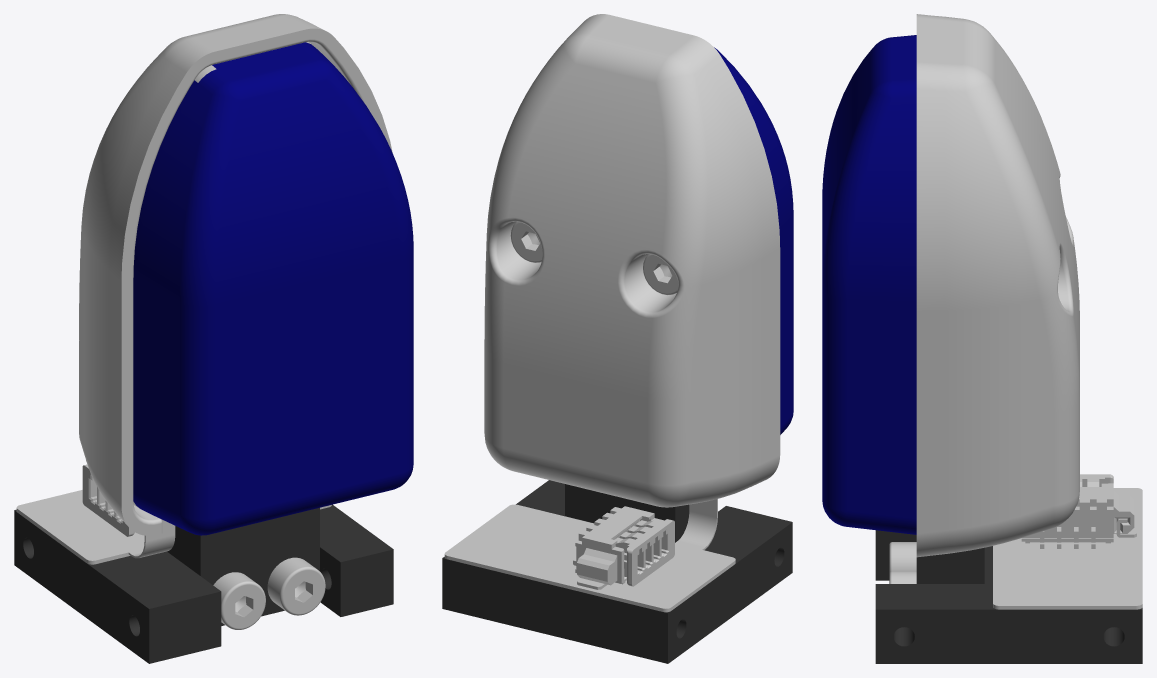
Rendered from sensing_tip.dae.
3 renders of one model, left to right at view 1: azimuth 30°, elevation 25°; view 2: azimuth 150°, elevation 25°; view 3: azimuth 270°, elevation 25°, orthographic. The views are drawn at different scales.
Parts seen in each view (by area): view 1: Node_0x292b980 (×2), Node_0x292d0a0, Node_0x292b040, Node_0x292be20, Node_0x292d9e0, Node_0x292d540, Node_0x292c760; view 2: Node_0x292b980 (×2), Node_0x292d0a0, Node_0x292be20, Node_0x292c2c0, Node_0x292c760, Node_0x292b040; view 3: Node_0x292b980 (×2), Node_0x292d0a0, Node_0x292be20, Node_0x292c2c0, Node_0x292b040, Node_0x292d540.
Boxes of the visible parts, x1,y1,x2,y2 form: Node_0x292b980 (×2): (79, 14, 413, 535); Node_0x292d0a0: (14, 504, 393, 663); Node_0x292b040: (167, 507, 319, 625); Node_0x292be20: (16, 490, 331, 564); Node_0x292d9e0: (267, 557, 325, 615); Node_0x292d540: (213, 572, 265, 629); Node_0x292c760: (82, 464, 134, 536); Node_0x292b980 (×2): (484, 14, 793, 507); Node_0x292d0a0: (442, 480, 792, 663); Node_0x292be20: (444, 499, 735, 612); Node_0x292c2c0: (573, 506, 664, 589); Node_0x292c760: (614, 519, 674, 586); Node_0x292b040: (565, 484, 689, 542); Node_0x292b980 (×2): (822, 14, 1079, 557); Node_0x292d0a0: (875, 530, 1142, 663); Node_0x292be20: (993, 488, 1142, 609); Node_0x292c2c0: (1021, 483, 1136, 548); Node_0x292b040: (916, 547, 984, 583); Node_0x292d540: (889, 542, 916, 572).
Size of the model in its own units: 23.27 by 46.14 by 23.52.
